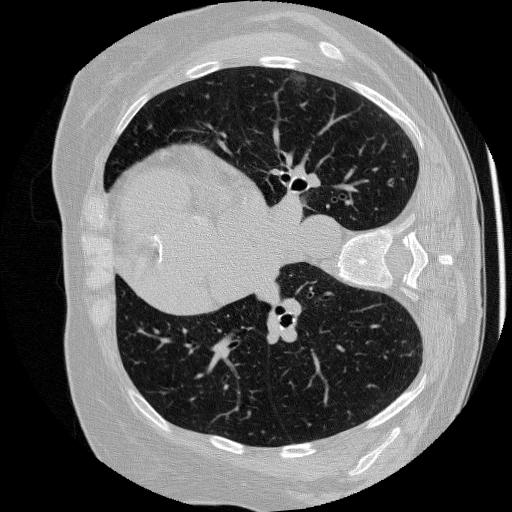nodule: (286, 71, 310, 95)
